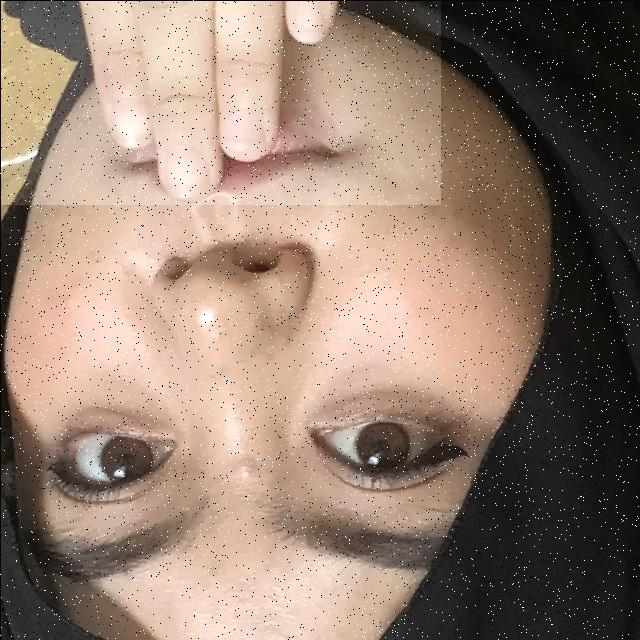ganteng: (0, 0, 440, 204)
